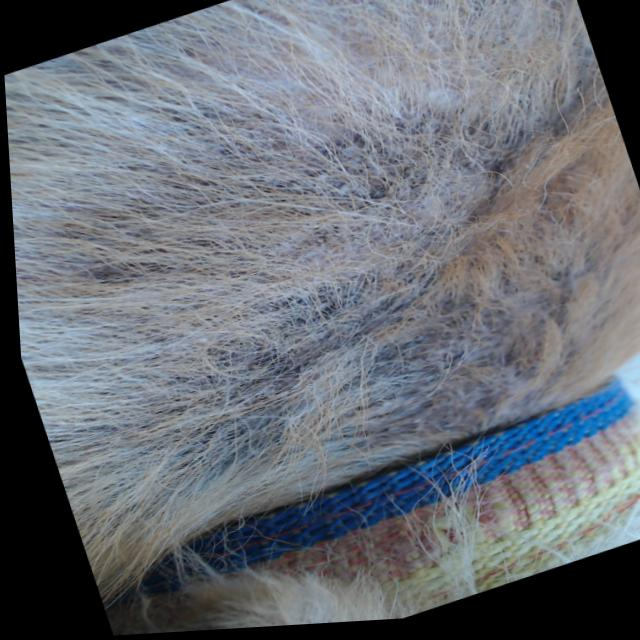demodicosis: (303, 271, 536, 451)
